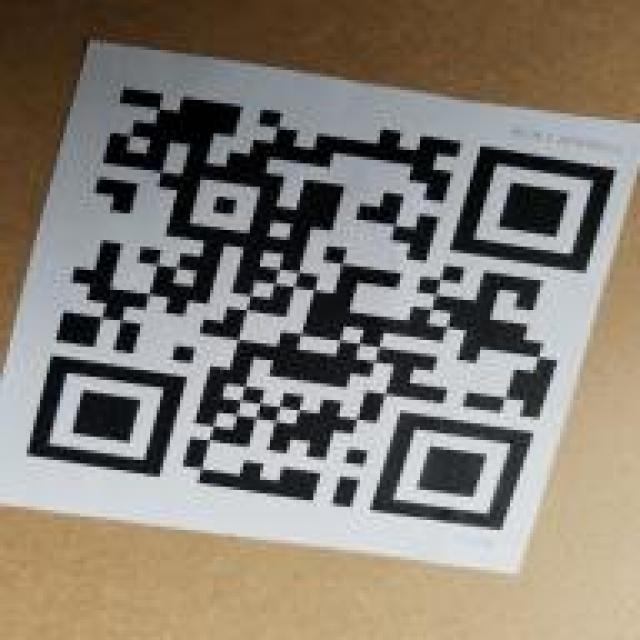qr_code: (27, 87, 617, 529)
